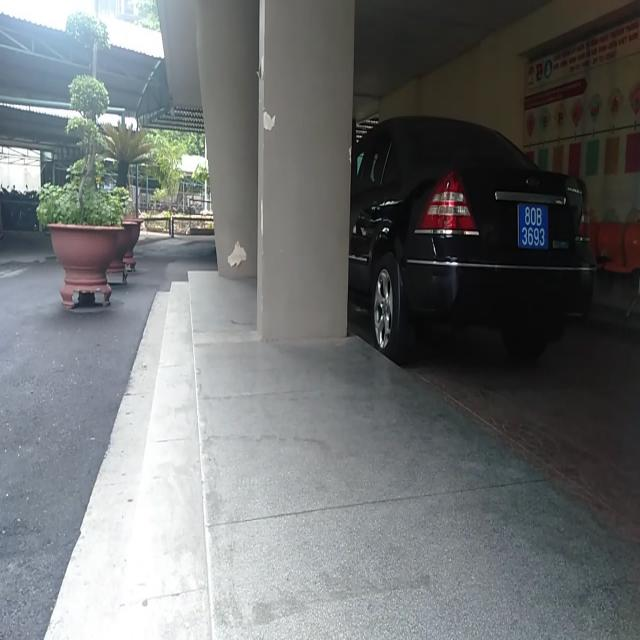bien_xanh: (514, 195, 550, 252)
